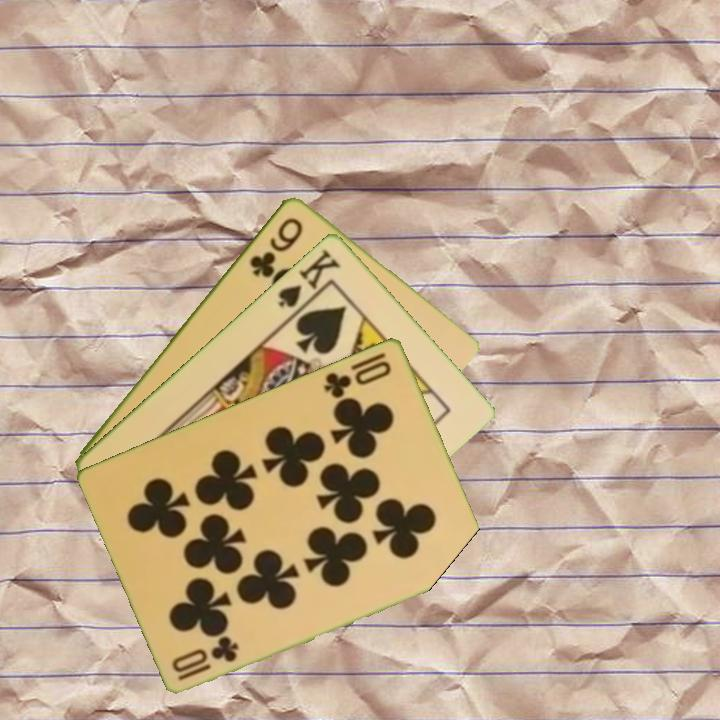10c: (168, 633, 242, 683), (320, 356, 395, 401)
9c: (245, 213, 306, 280)
Ks: (274, 244, 344, 319)
